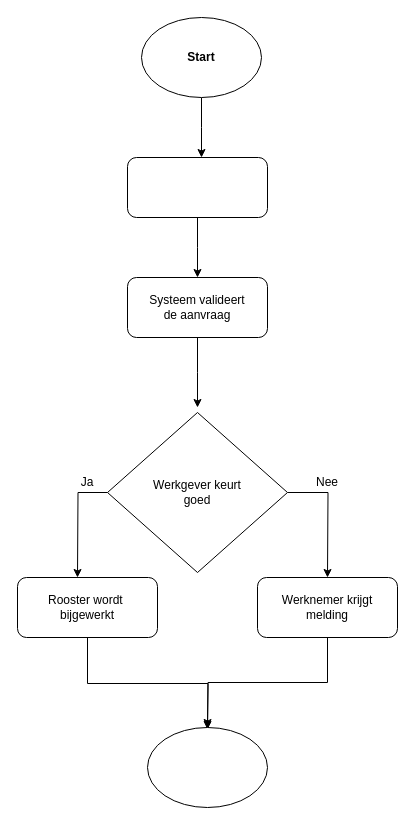
Image size: 415x825. Some labels were removed from this diagram. Each missing label, with the box of its shape:
Einde: (146, 726, 268, 808)
Werknemer dient verlofaanvraag in: (126, 156, 268, 218)
